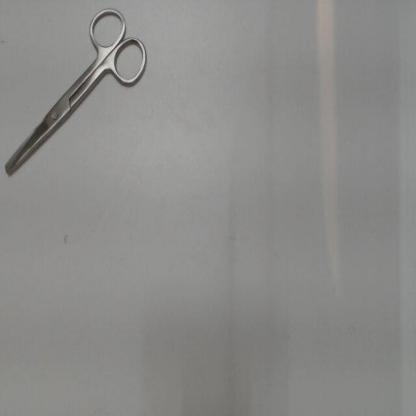Dressing Scissors: (0, 0, 155, 192)
